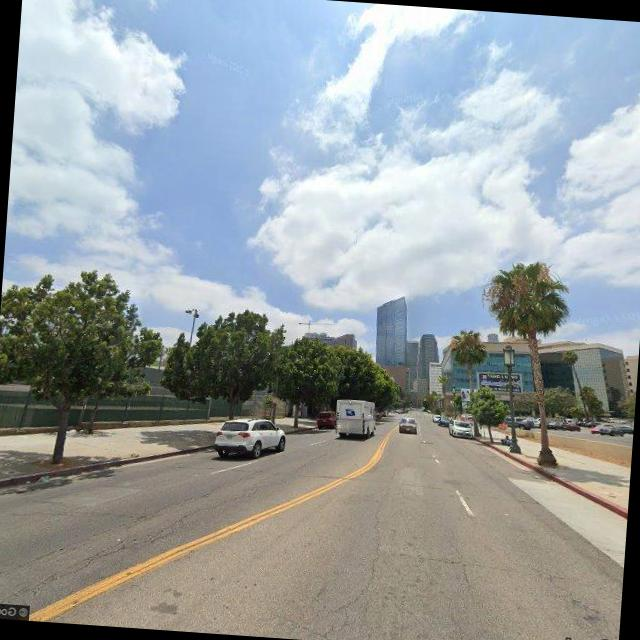pothole: (0, 481, 230, 618), (0, 469, 217, 593), (314, 501, 393, 640), (442, 528, 478, 588)
